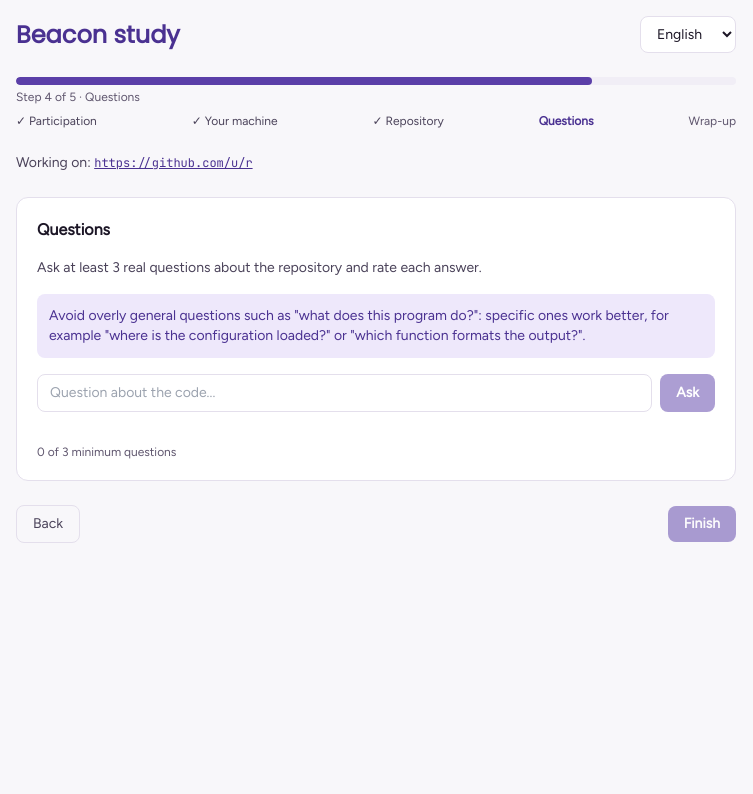
modo estudio › elegir el mismo repositorio que ya está listo no vuelve a indexarlo
The width and height of the screenshot is (753, 794).
Click the button "Back" at (48, 524), box [16, 505, 80, 543]
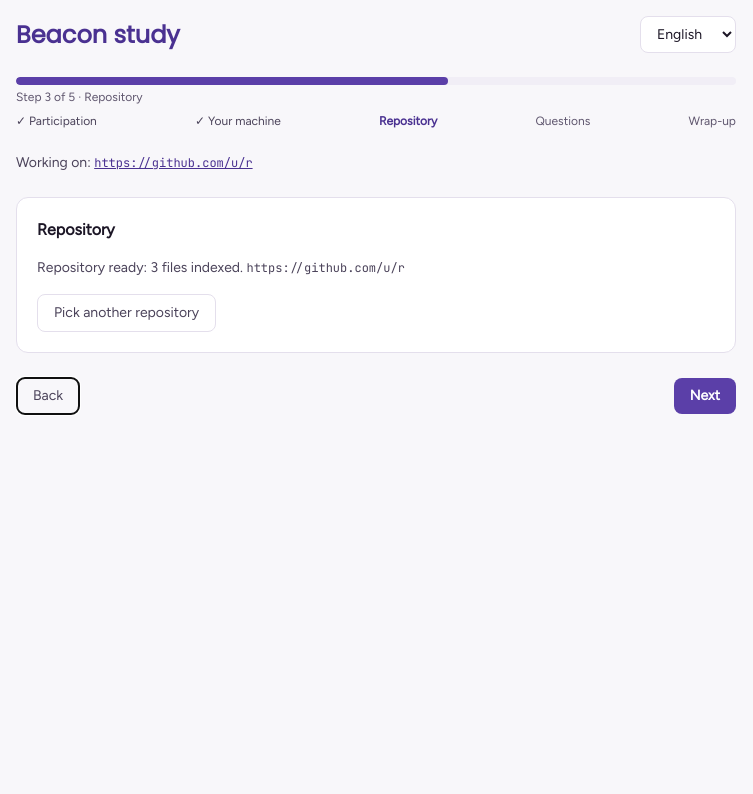
Click the button "Pick another repository" at (127, 313), box [37, 294, 216, 332]
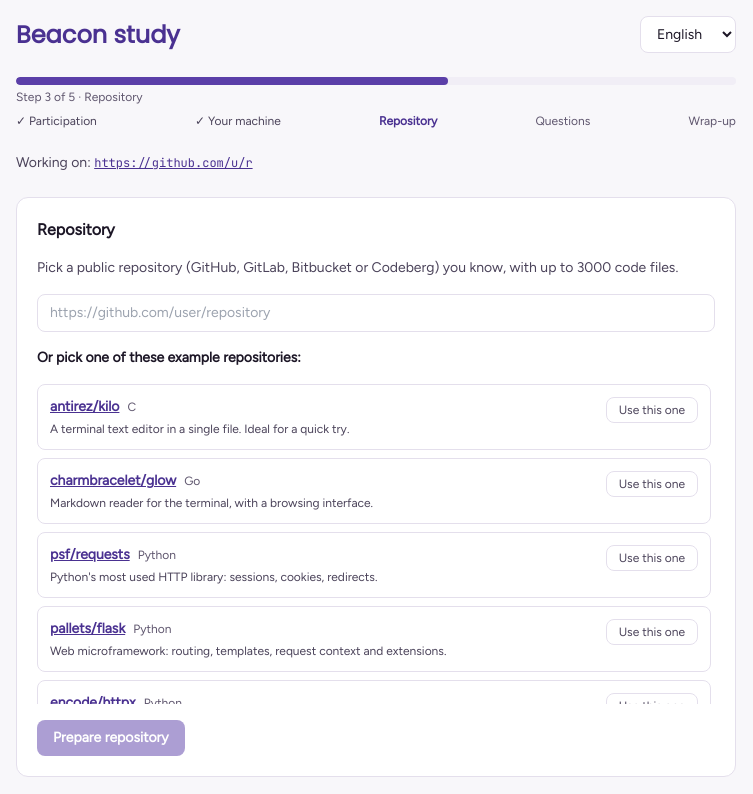
Type "https://github.com/u/r" into the field named "URL" at (376, 313), box [37, 294, 715, 332]
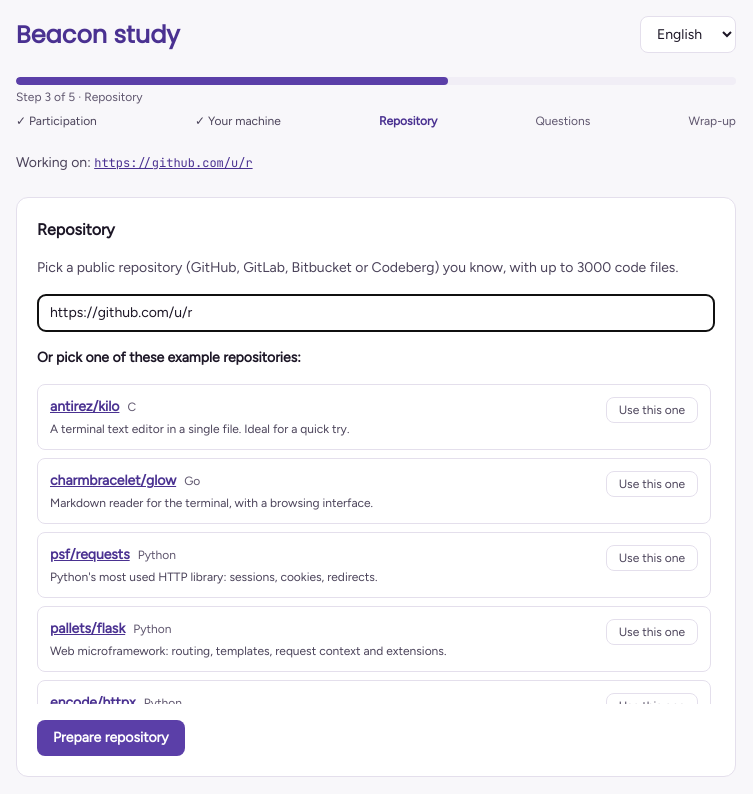
Click the button "Prepare repository" at (111, 738), box [37, 720, 185, 756]
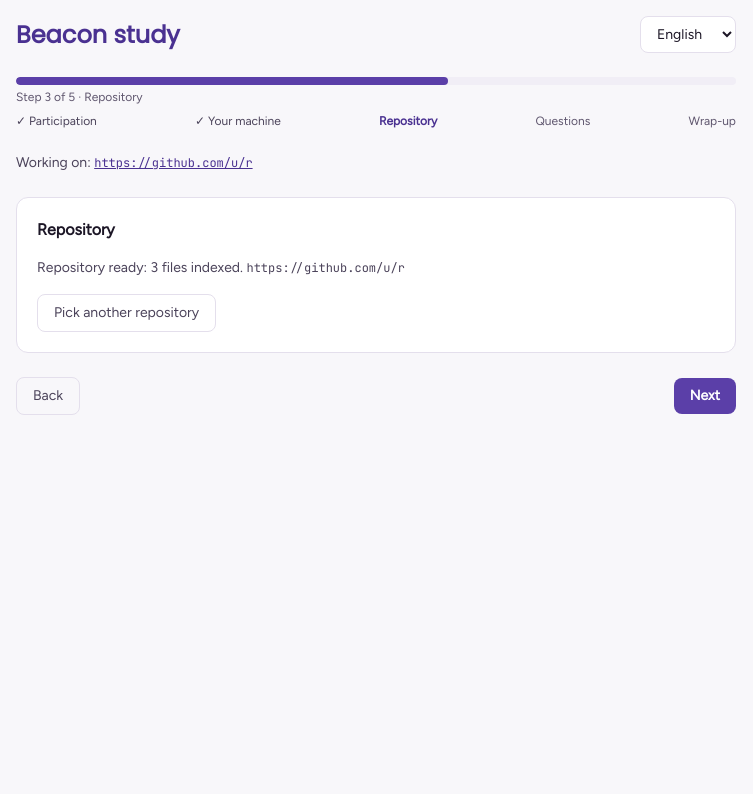
Expected: the text "Repository ready: 3 files indexed. https://github.com/u/r" is shown, [37, 259, 405, 276]
